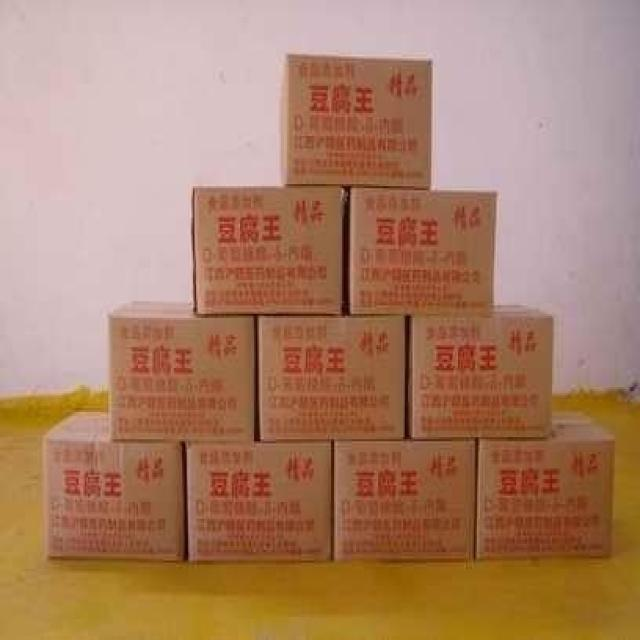box: (43, 410, 185, 559), (280, 54, 432, 190), (475, 412, 615, 559), (108, 302, 254, 441), (405, 305, 553, 439), (344, 189, 498, 316), (193, 186, 343, 313), (255, 315, 405, 441), (186, 439, 333, 561), (332, 439, 477, 561)
